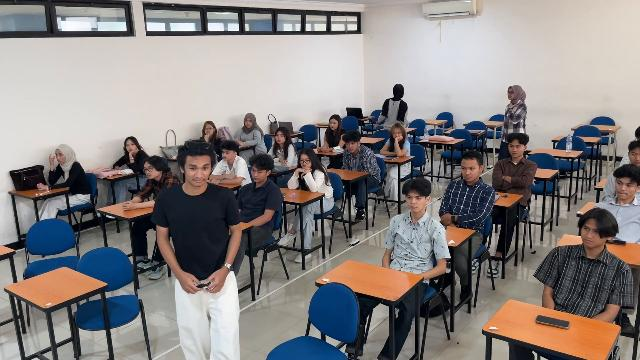fokus: (581, 222, 603, 247), (615, 178, 635, 200), (406, 192, 424, 213), (461, 162, 478, 181), (144, 161, 159, 179), (251, 165, 266, 182), (509, 142, 521, 158), (629, 149, 640, 166), (300, 154, 312, 169), (125, 139, 137, 153), (222, 148, 234, 161), (275, 130, 286, 144), (56, 149, 65, 165), (346, 140, 356, 154), (204, 124, 214, 136), (329, 118, 339, 130), (393, 128, 403, 140), (245, 117, 253, 128)
